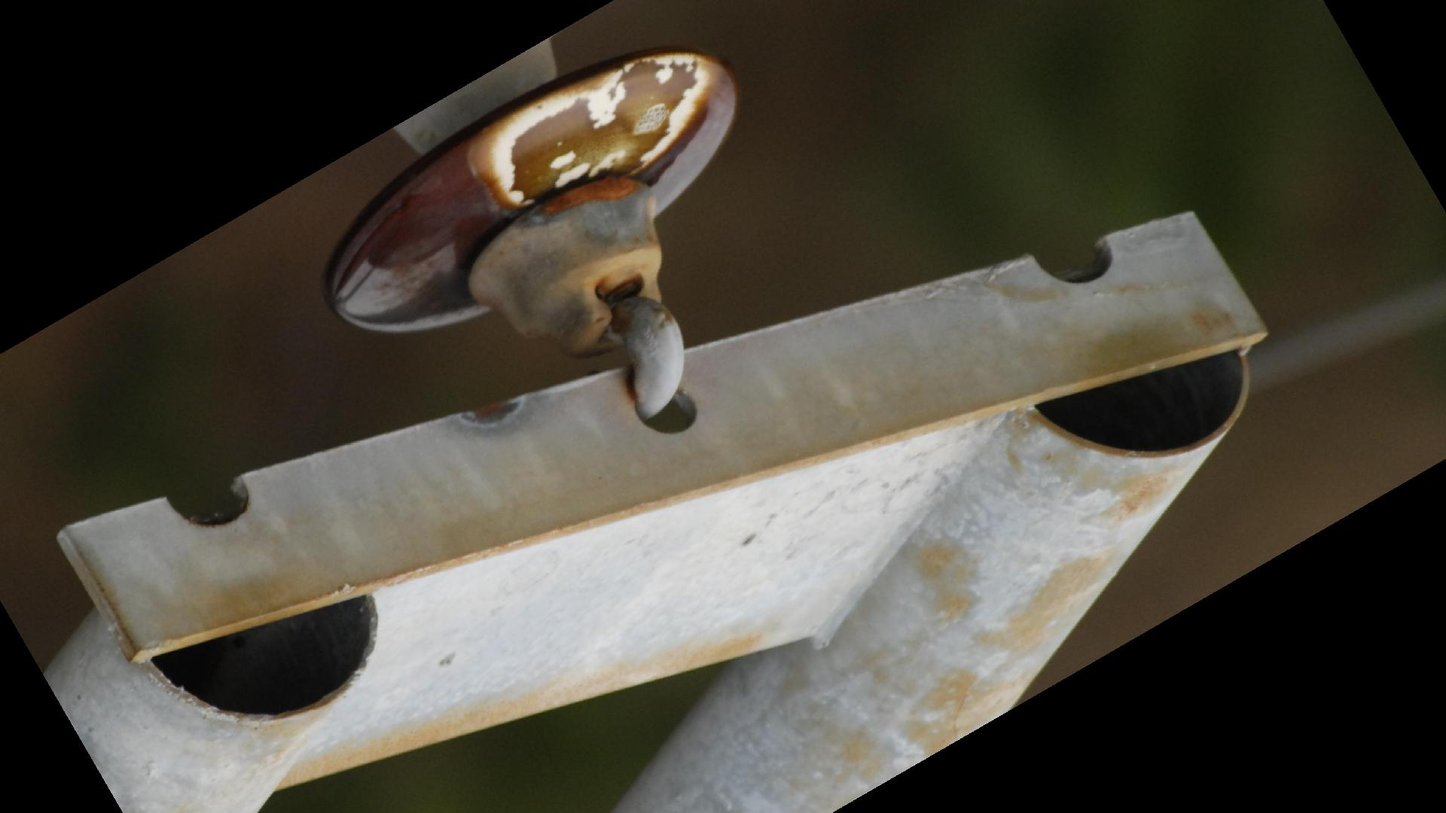insulator: (313, 41, 746, 340)
insulator_flashover: (481, 47, 728, 212)
